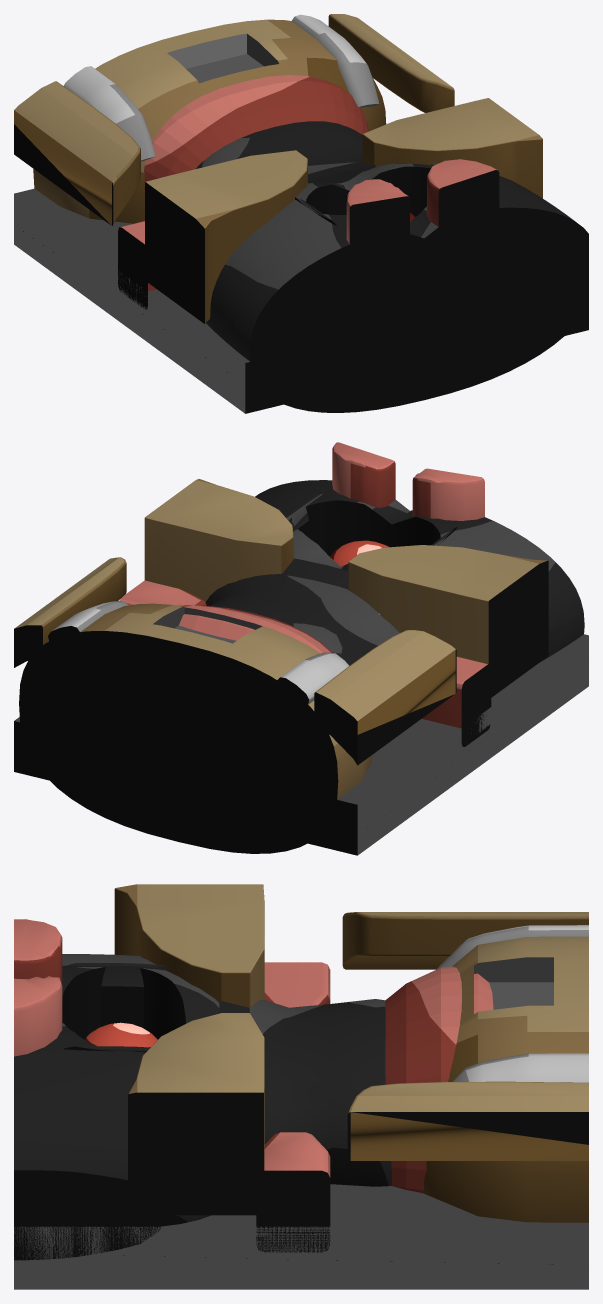
The model's file is tusk_boss_core_39.glb.
3 views of the same model, one above another, from view 1: azimuth 30°, elevation 25°; view 2: azimuth 150°, elevation 25°; view 3: azimuth 270°, elevation 25° (orthographic). The views are drawn at different scales.
Visible parts, largest first — view 1: tusk_boss_core_39; view 2: tusk_boss_core_39; view 3: tusk_boss_core_39.
Part boxes in pixels (x1,y1,x2,y2): tusk_boss_core_39: (14, 14, 588, 413); tusk_boss_core_39: (14, 442, 588, 855); tusk_boss_core_39: (14, 884, 588, 1289).
Bounding box in the file's own units: 24 × 14.5 × 28.
